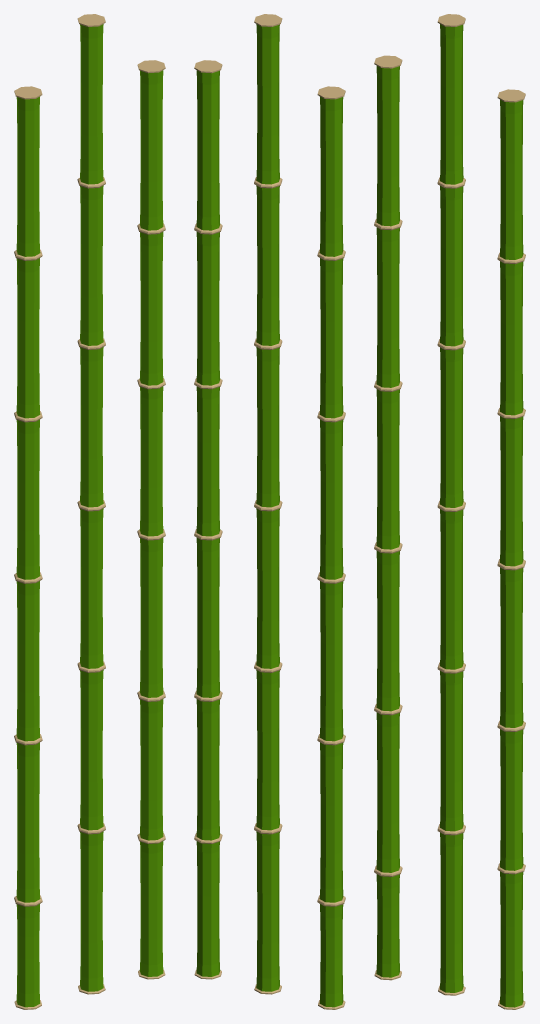
The model's file is bamboo.gltf.
3 renders of one model, left to right at view 1: azimuth 30°, elevation 25°; view 2: azimuth 150°, elevation 25°; view 3: azimuth 330°, elevation 25°, orthographic.
Visible parts, largest first — view 1: node-0; view 2: node-0; view 3: node-0.
Boxes of the visible parts, x1,y1,x2,y2 form: node-0: (14,14,165,1009); node-0: (194,14,345,1009); node-0: (374,14,525,1009).
Bounding box in the file's own units: 1.75 × 10.91 × 0.3019.
